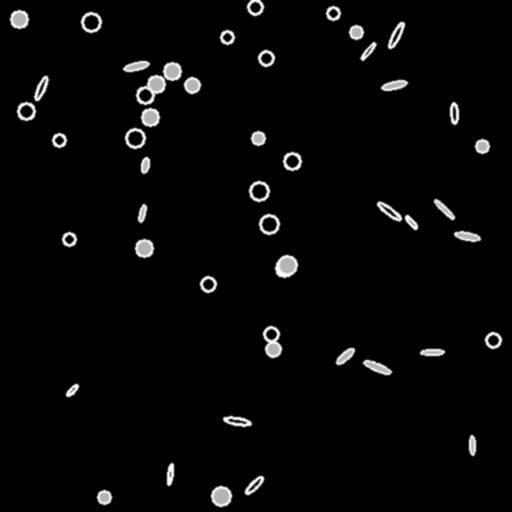pseudomonas: (386, 20, 406, 50), (376, 200, 402, 222), (363, 358, 391, 376), (433, 198, 455, 220), (335, 346, 355, 366), (244, 475, 264, 495), (33, 76, 49, 100), (381, 79, 407, 91), (123, 60, 149, 72), (360, 42, 376, 60), (455, 230, 479, 242), (224, 416, 250, 426), (403, 214, 419, 230), (65, 383, 79, 397), (166, 463, 174, 485), (450, 102, 458, 124), (421, 349, 443, 355), (141, 157, 149, 173), (138, 205, 146, 221), (469, 436, 475, 454)
synechocystis: (250, 182, 268, 200), (260, 215, 278, 233), (212, 487, 230, 505), (82, 13, 100, 31), (278, 256, 296, 274), (126, 129, 144, 147), (142, 109, 158, 125), (136, 240, 152, 256), (276, 260, 292, 276), (18, 103, 34, 119), (164, 63, 180, 79), (11, 11, 27, 27), (137, 87, 153, 103), (148, 76, 164, 92), (284, 153, 300, 169), (486, 333, 500, 347), (201, 277, 215, 291), (264, 327, 278, 341), (248, 0, 262, 14), (259, 51, 273, 65), (266, 342, 280, 356), (185, 78, 199, 92), (476, 140, 488, 152), (98, 491, 110, 503), (221, 31, 233, 43), (53, 134, 65, 146), (350, 26, 362, 38), (63, 233, 75, 245), (252, 132, 264, 144), (327, 7, 339, 19)
